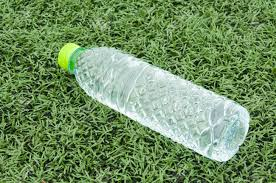Botella: (59, 43, 248, 161)
